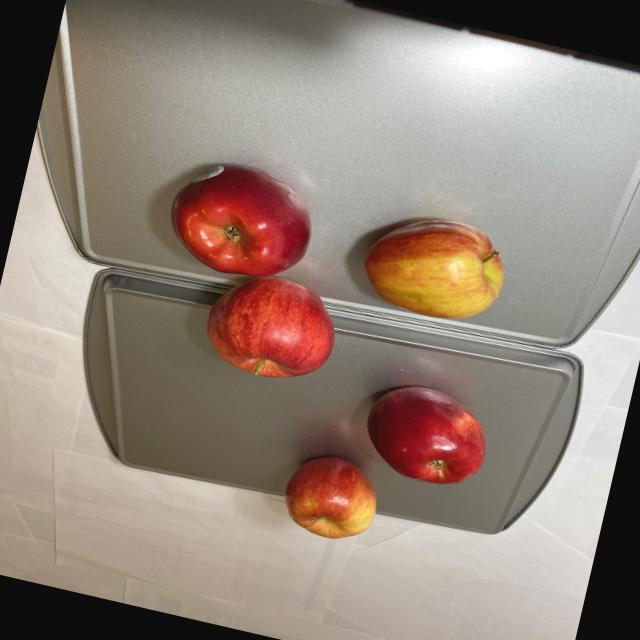apple: (136, 136, 522, 427), (276, 361, 498, 566)
